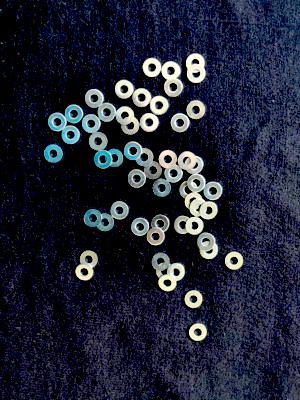circle: (42, 144, 63, 167), (142, 57, 163, 79), (109, 201, 130, 222), (61, 125, 82, 146), (47, 112, 68, 133), (120, 115, 141, 136), (95, 212, 115, 234), (88, 131, 108, 153), (223, 252, 244, 272), (115, 79, 135, 100), (152, 177, 172, 198), (150, 96, 170, 117), (164, 78, 185, 98), (187, 63, 207, 84), (170, 112, 190, 133), (199, 201, 220, 221), (149, 253, 171, 272), (199, 241, 219, 261), (93, 150, 113, 170), (64, 105, 84, 125), (81, 114, 101, 134), (85, 89, 105, 109), (140, 113, 160, 133), (161, 62, 181, 82), (187, 100, 207, 120), (78, 250, 99, 269), (146, 227, 167, 246), (184, 290, 205, 309), (98, 102, 117, 123), (185, 155, 204, 176), (131, 217, 150, 237), (155, 263, 175, 282), (188, 324, 208, 343), (196, 233, 216, 252), (173, 216, 193, 235), (185, 217, 204, 237), (105, 149, 124, 169), (143, 161, 163, 180), (133, 89, 152, 109), (187, 174, 207, 193), (84, 207, 101, 229), (74, 264, 93, 283), (151, 215, 170, 234), (123, 142, 142, 161), (127, 169, 146, 188), (135, 149, 154, 168), (164, 164, 183, 183), (159, 150, 178, 169), (187, 53, 206, 72), (184, 192, 203, 211), (115, 107, 135, 125), (178, 152, 197, 170), (179, 182, 197, 201), (204, 182, 223, 200), (190, 198, 208, 217), (158, 275, 178, 292), (168, 262, 185, 282)
